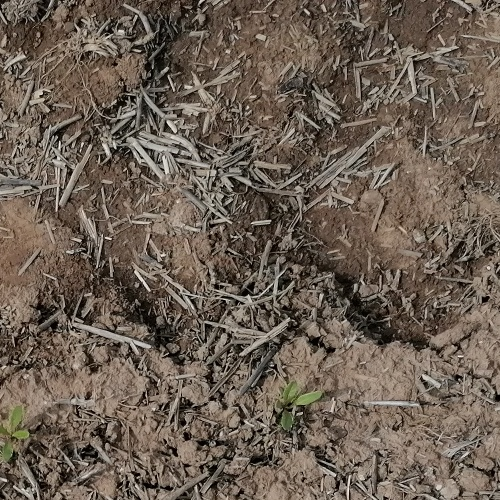beet: (275, 380, 322, 432), (0, 403, 33, 463)
